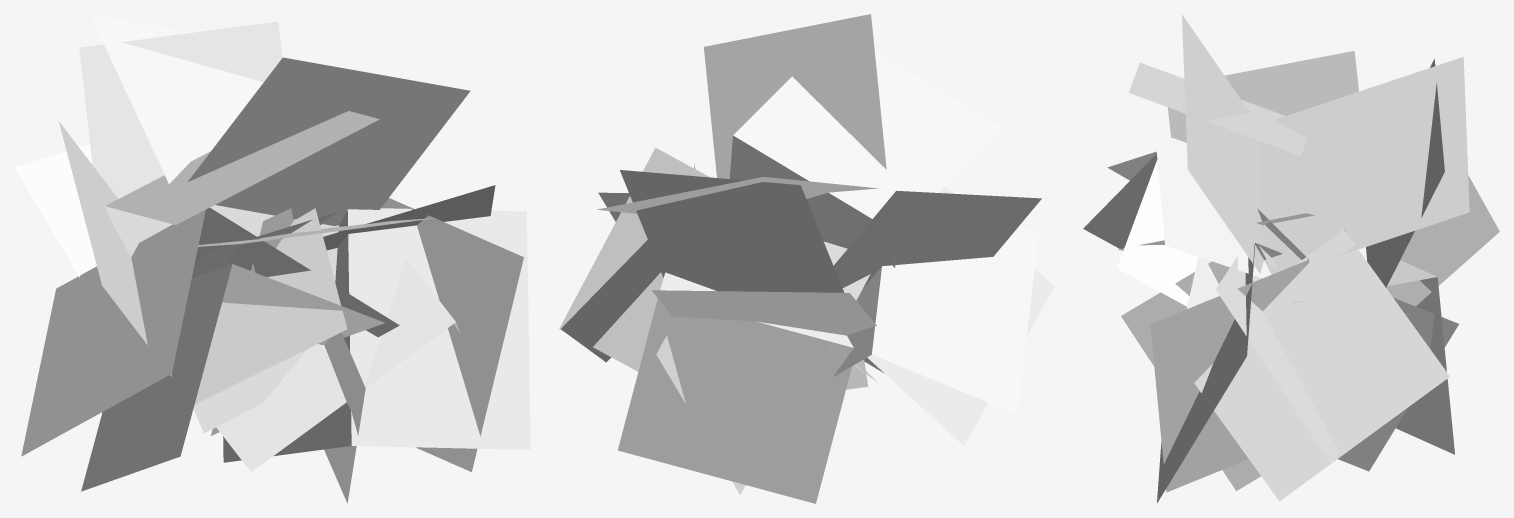
File: crumpled.gltf
The picture shows the model from 3 angles, left to right: view 1: azimuth 30°, elevation 25°; view 2: azimuth 150°, elevation 25°; view 3: azimuth 270°, elevation 25°; orthographic projection. The views are drawn at different scales.
Visible parts, largest first — view 1: plane (×11); view 2: plane (×11); view 3: plane (×12).
Boxes of the visible parts, bbox=[...] form: plane (×11): bbox=[14, 14, 530, 503]; plane (×11): bbox=[559, 14, 1054, 503]; plane (×12): bbox=[1083, 14, 1499, 502].
Size of the model in its own units: 0.2251 by 0.2138 by 0.1847.
1 material, 1 textured.
